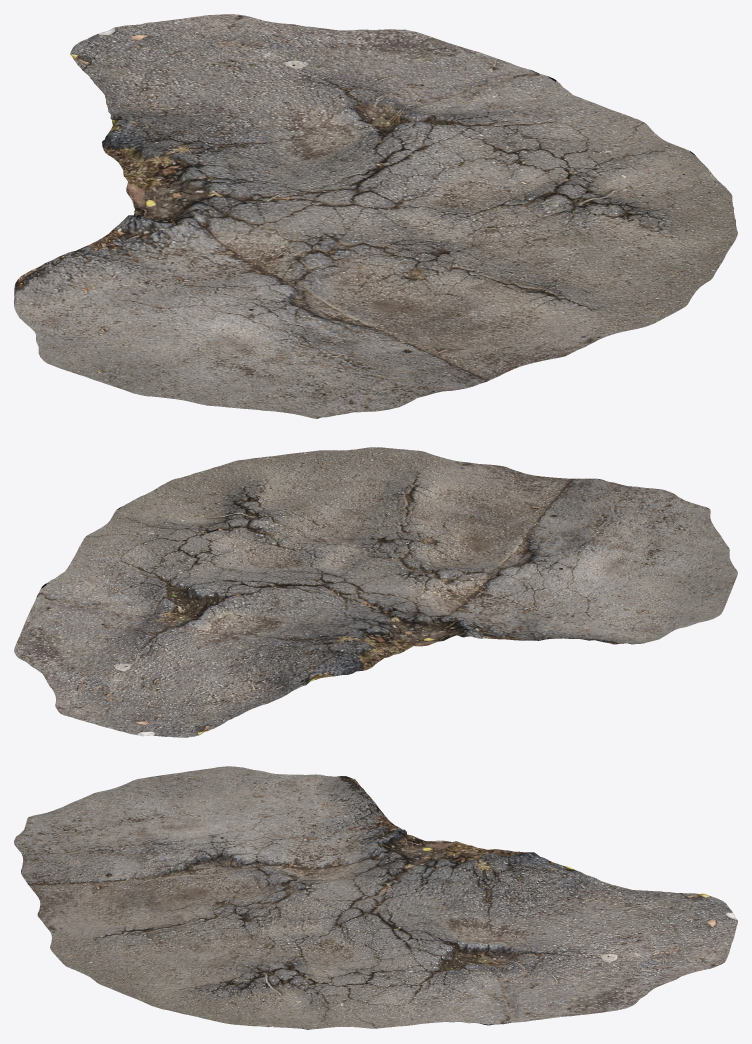
Rendered from cracked-asphalt.glb.
3 views of the same model, one above another, from view 1: azimuth 30°, elevation 25°; view 2: azimuth 150°, elevation 25°; view 3: azimuth 270°, elevation 25° (orthographic). The views are drawn at different scales.
Visible parts, largest first — view 1: Object_2; view 2: Object_2; view 3: Object_2.
Boxes of the visible parts, x1=… form: Object_2: x1=14, y1=14, x2=737, y2=418; Object_2: x1=14, y1=447, x2=737, y2=737; Object_2: x1=14, y1=766, x2=737, y2=1029.
Bounding box in the file's own units: 2.39 × 0.1026 × 2.78.
1 material, 1 textured.
